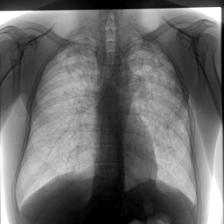tuberculosis: (13, 19, 204, 224)
